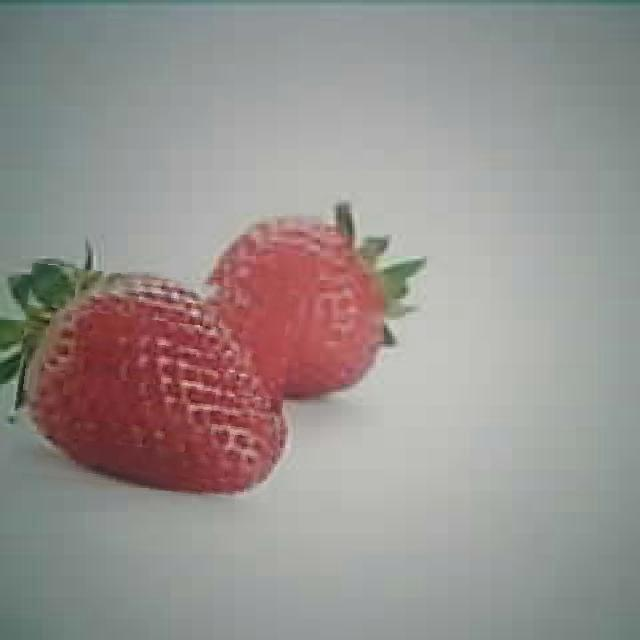strawberry: (12, 270, 290, 496)
